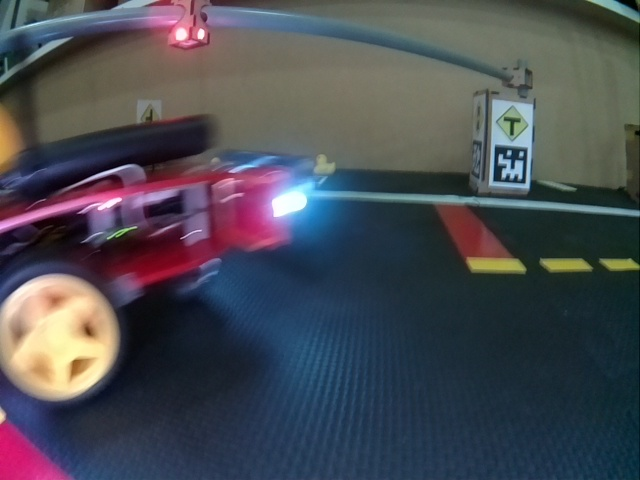Duckie: (313, 154, 335, 175)
Duckiebot: (3, 139, 312, 410)
Intersection sign: (495, 104, 528, 140), (139, 105, 158, 122)
QR code: (495, 148, 527, 183), (470, 141, 482, 179)
Signal sign: (472, 102, 486, 139)
Traffic light: (168, 0, 210, 51)
